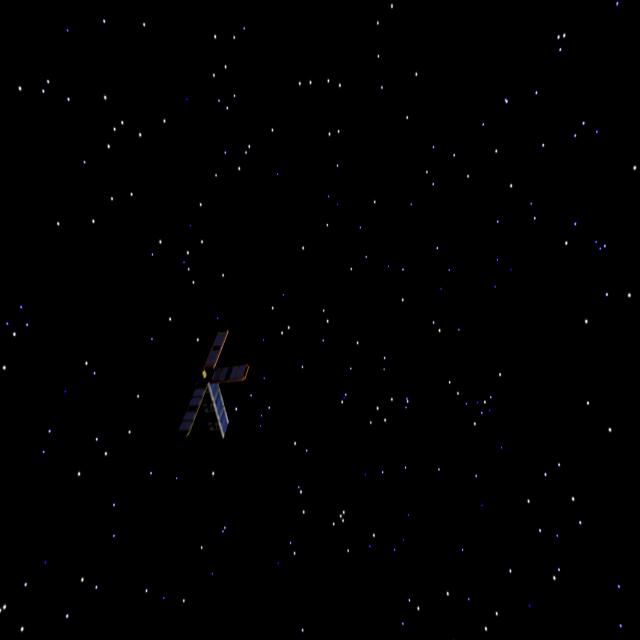medium_debris: (168, 334, 246, 456)
